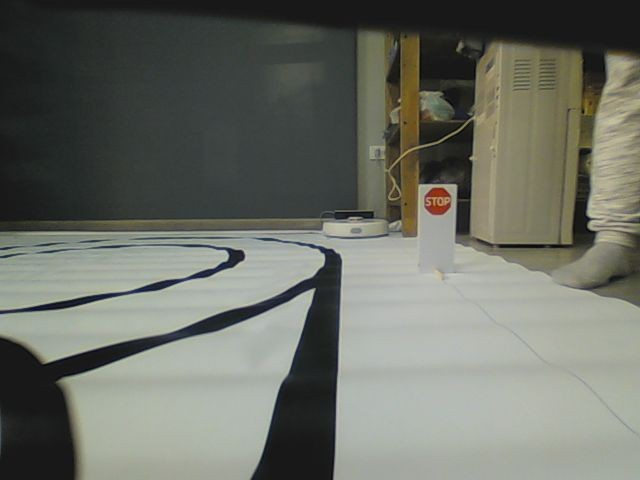Stop: (423, 187, 452, 216)
